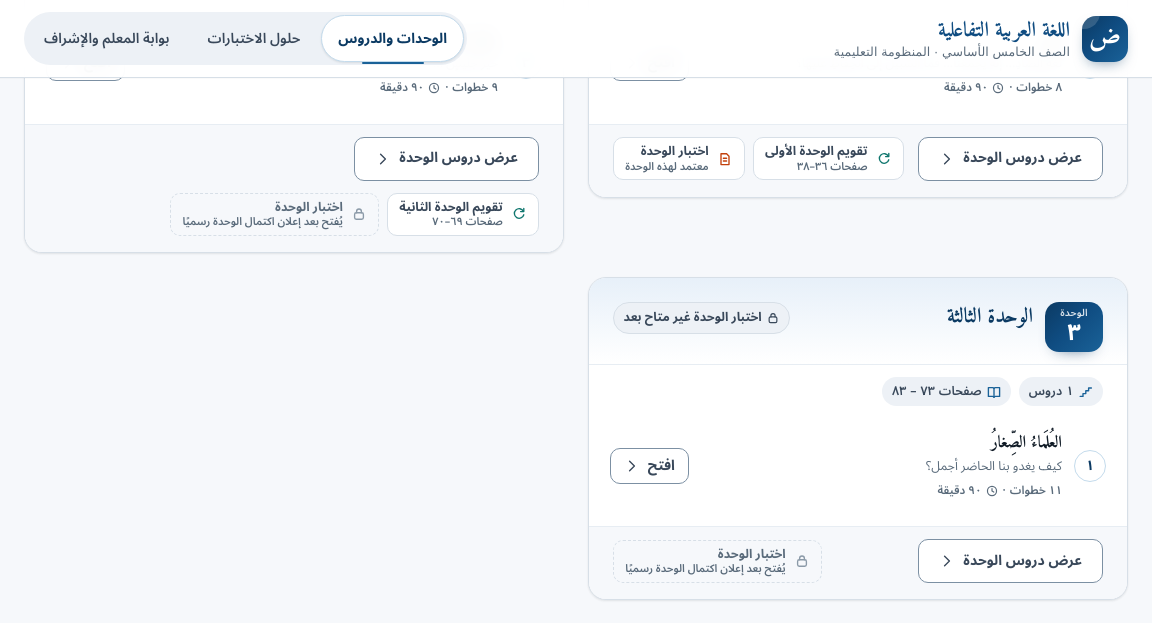
Scenario: Unit 3 Lesson 1 — العُلَماءُ الصِّغار (ص٧٣–٨٣) › shows lesson 1 on the Unit 3 page in the correct order and opens it
(page scrolled)
Click the button with aria-label "عرض دروس الوحدة الثالثة".
click(1011, 561)  # box [918, 539, 1103, 583]
(page scrolled)
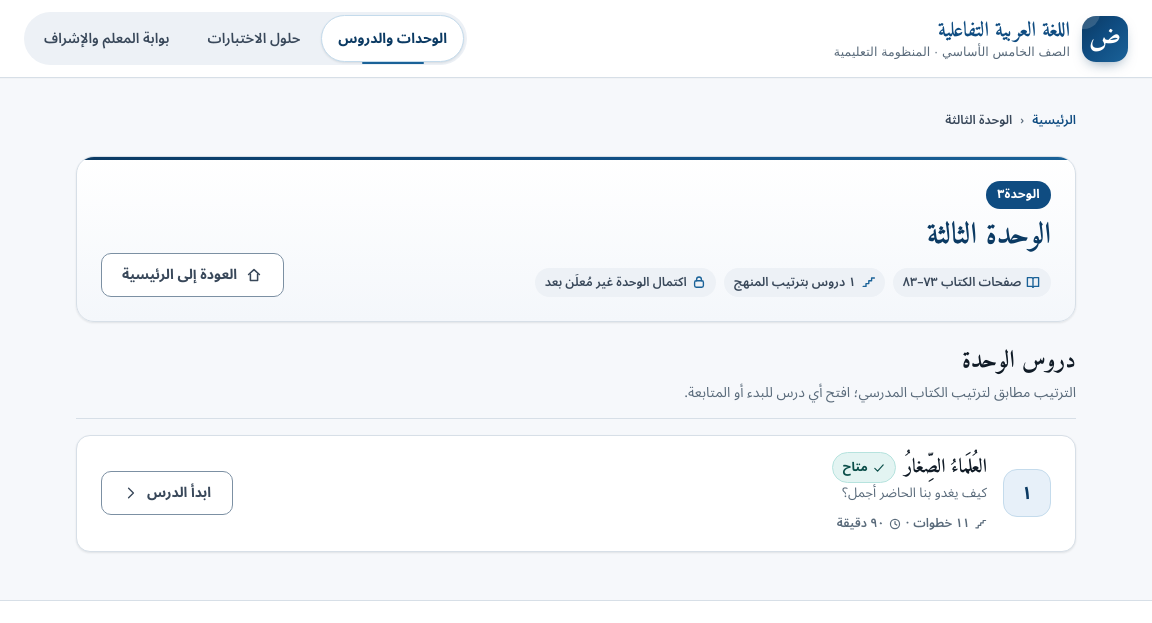
Expected: the heading "الوحدة الثالثة" is shown, [927, 217, 1051, 256]
Click the button with aria-label "ابدأ الدرس 1: العُلَماءُ الصِّغارُ".
click(167, 493)  # box [101, 471, 233, 515]
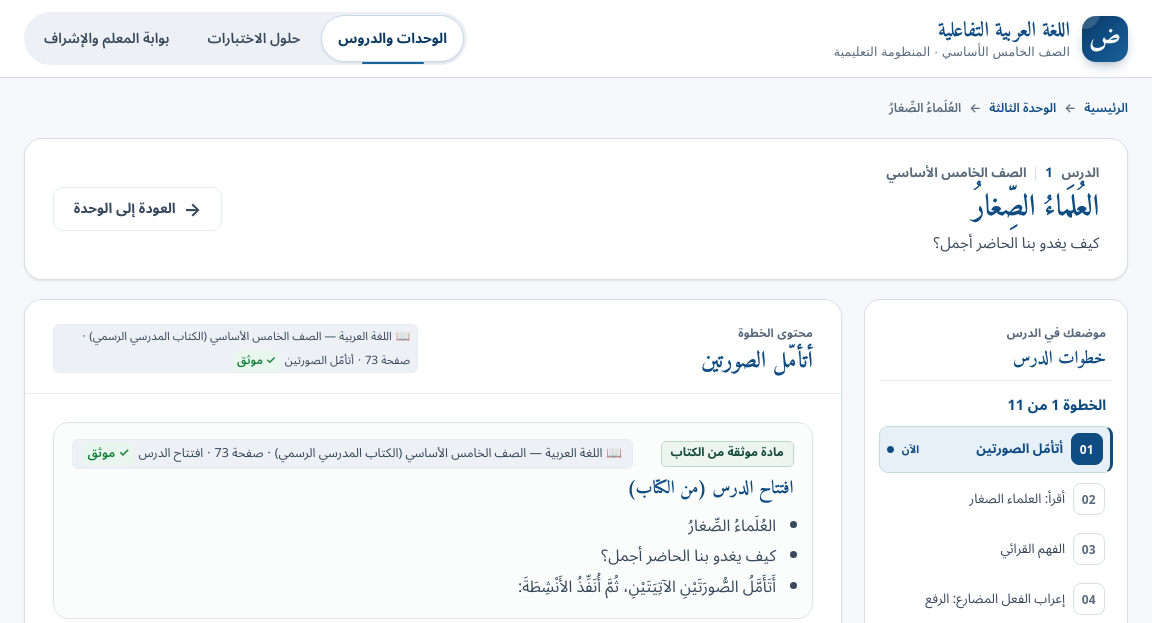
Expected: the element with class "lesson-step-position" reads "الخطوة 1 من 11", [1007, 390, 1106, 420]
Expected: the button with aria-label "العودة إلى صفحة الوحدة" is shown, [53, 187, 222, 231]
